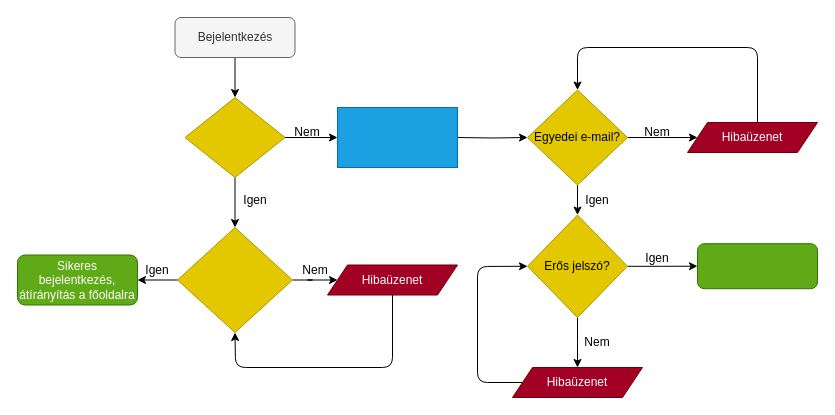
Some shapes in this 835 by 415 pixel diagram are drawn without their labels. Each missing label, with the centre of its shape:
Megfelelőek az adatok?: [234,279]
Regisztrációs folyamat elindítása: [397,137]
Regisztrált felhasználó?: [234,137]
Új felhasználó felvétele: [757,266]
